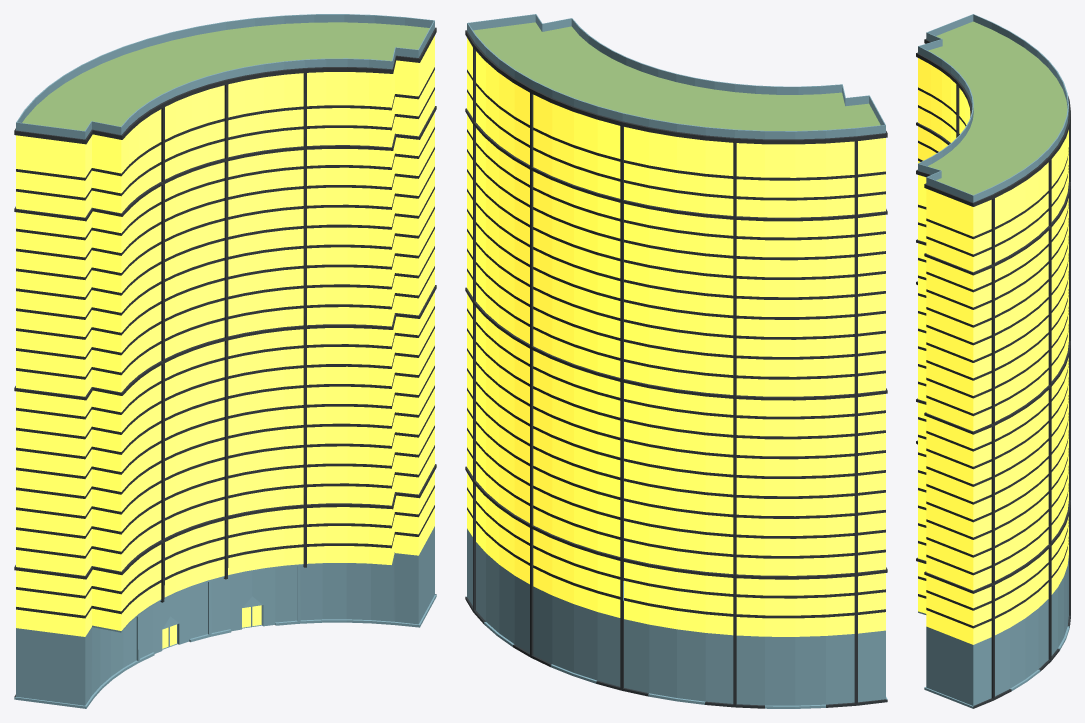
File: SM_skyscraper_03.glb
3 views of the same model, side by side, from view 1: azimuth 30°, elevation 25°; view 2: azimuth 150°, elevation 25°; view 3: azimuth 270°, elevation 25° (orthographic). The views are drawn at different scales.
Parts seen in each view (by area): view 1: SM_skyscraper_03; view 2: SM_skyscraper_03; view 3: SM_skyscraper_03.
Part boxes in pixels (<box>): SM_skyscraper_03: <box>14,14,436,708</box>; SM_skyscraper_03: <box>465,14,887,708</box>; SM_skyscraper_03: <box>916,14,1070,708</box>.
Size of the model in its own units: 30.8 by 40.15 by 11.
2 materials, 1 textured.
